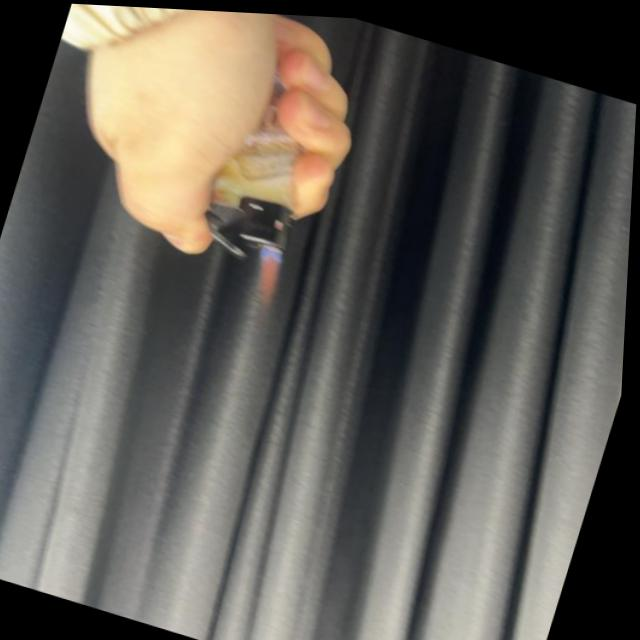Fire: (245, 240, 292, 313)
